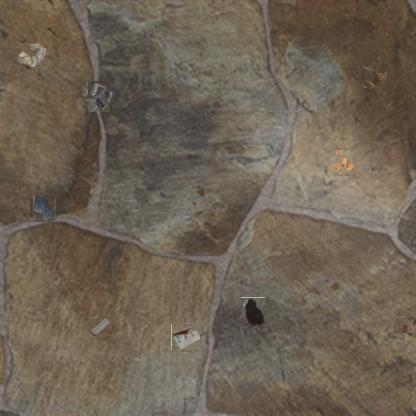dirty: (16, 41, 48, 69), (85, 82, 113, 110), (172, 324, 200, 351), (361, 68, 385, 92), (332, 152, 354, 174), (395, 313, 416, 334), (91, 315, 111, 335)
liquid: (241, 297, 265, 326), (31, 198, 55, 222)
